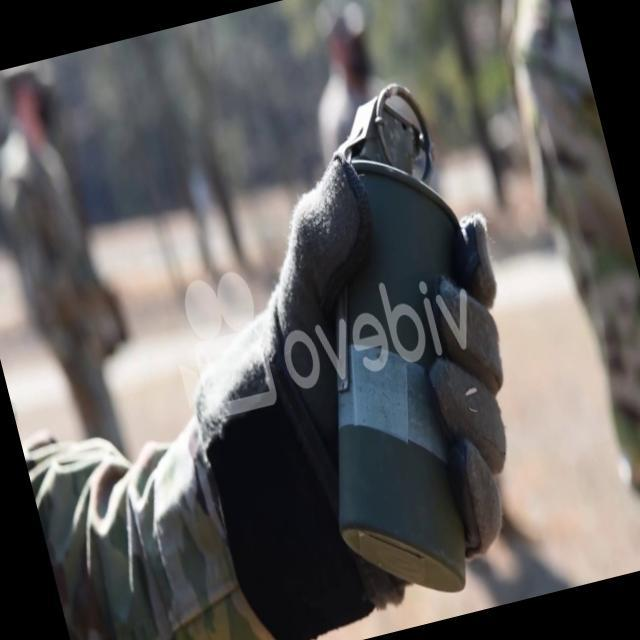grenade: (231, 74, 561, 618)
